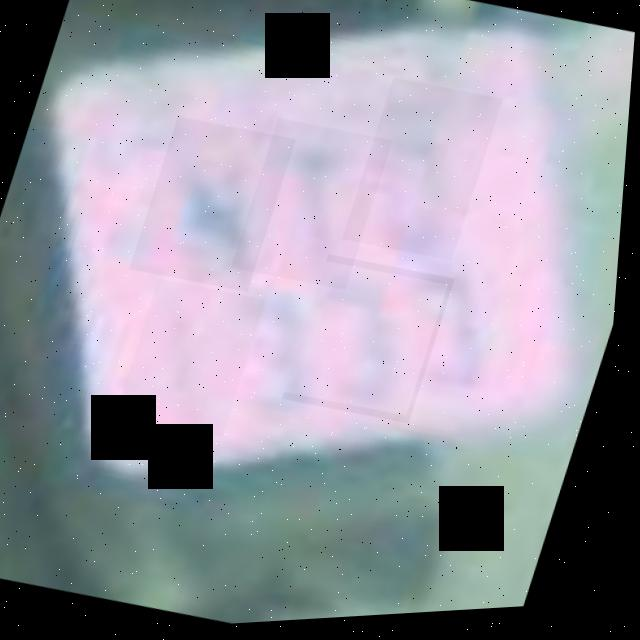0: (286, 252, 461, 435)
3: (288, 259, 454, 426)
7: (119, 276, 272, 445)
B: (344, 77, 506, 271)
N: (131, 112, 300, 301)
T: (233, 116, 396, 300)
